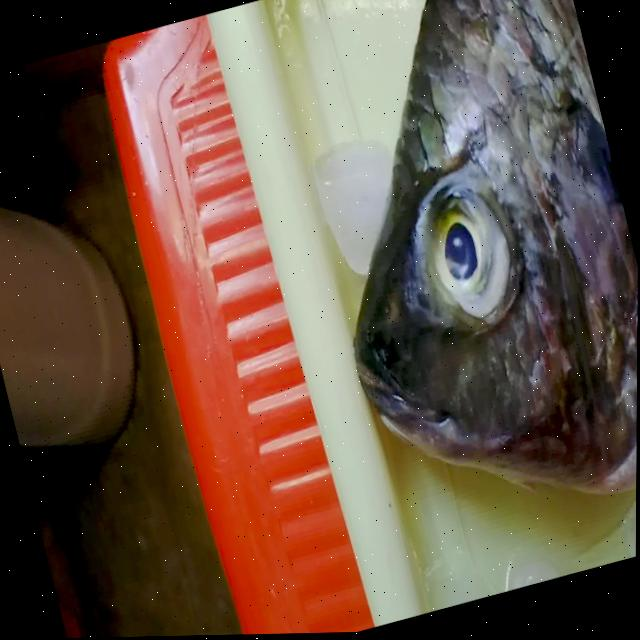Fresh: (388, 135, 532, 363)
